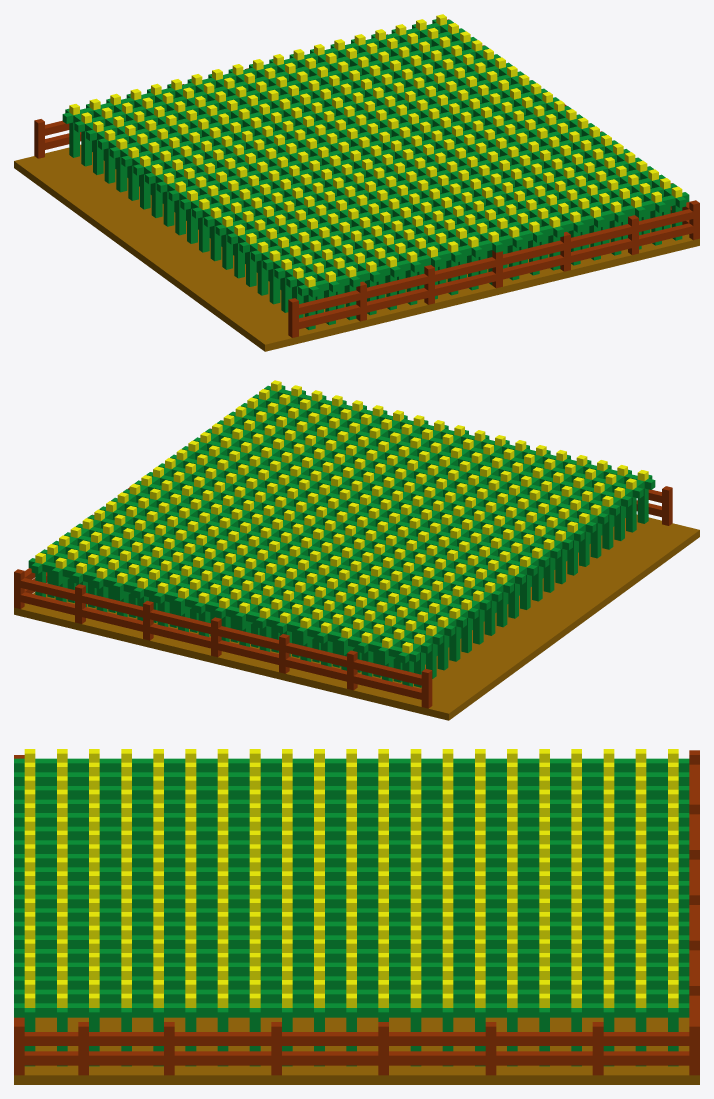
File: farm-3.obj
3 renders of one model, top to bottom at view 1: azimuth 30°, elevation 25°; view 2: azimuth 150°, elevation 25°; view 3: azimuth 270°, elevation 25°, orthographic. The views are drawn at different scales.
Bounding box in the file's own units: 6.4 × 0.8 × 6.4.
1 material, 1 textured.
